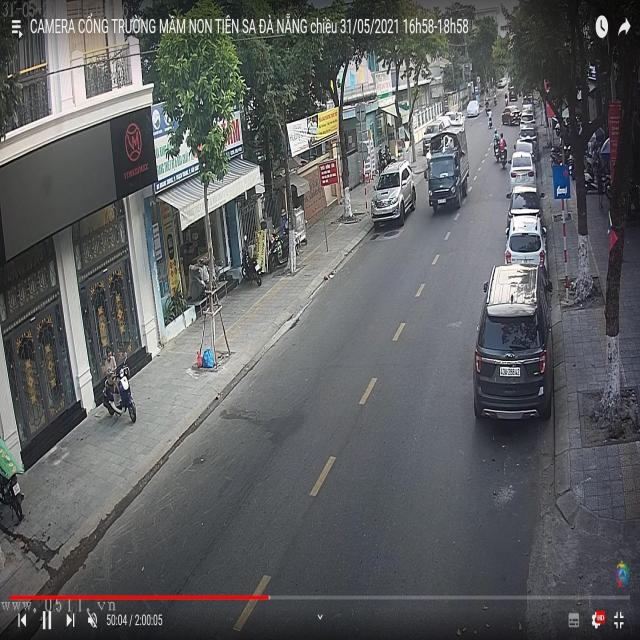car: (473, 260, 556, 420), (372, 158, 419, 232), (506, 188, 545, 235), (504, 226, 546, 268), (510, 151, 534, 181), (467, 99, 480, 117)
truck: (426, 133, 469, 212)
